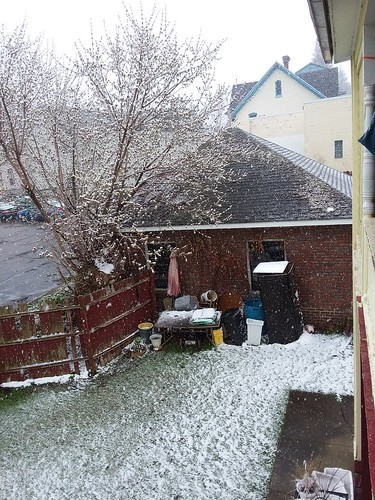building: (133, 142, 362, 336), (221, 62, 357, 172)
trash: (154, 277, 312, 345)
tree: (1, 42, 210, 280)
wall: (1, 266, 155, 389)
